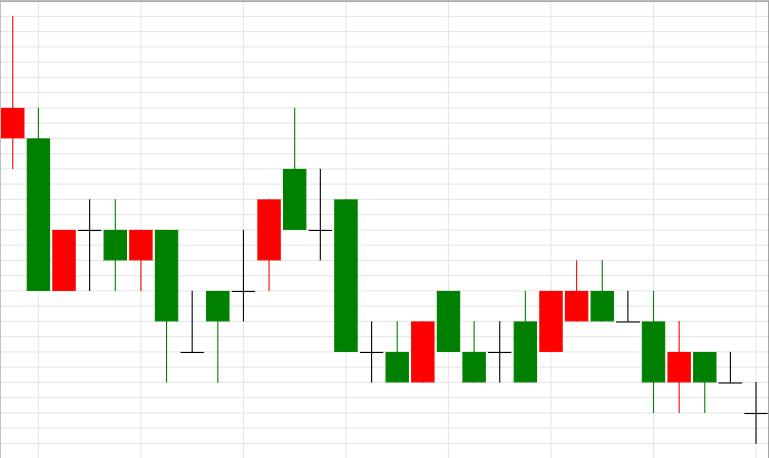bullish_engulfing_rise: (283, 107, 434, 382)
